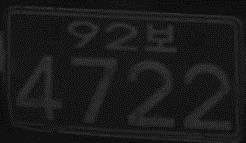2: (126, 59, 176, 129), (183, 62, 233, 130), (105, 22, 138, 52)
4: (16, 53, 62, 120)
7: (69, 55, 117, 124)
9: (67, 19, 99, 47)
보: (144, 22, 176, 53)
